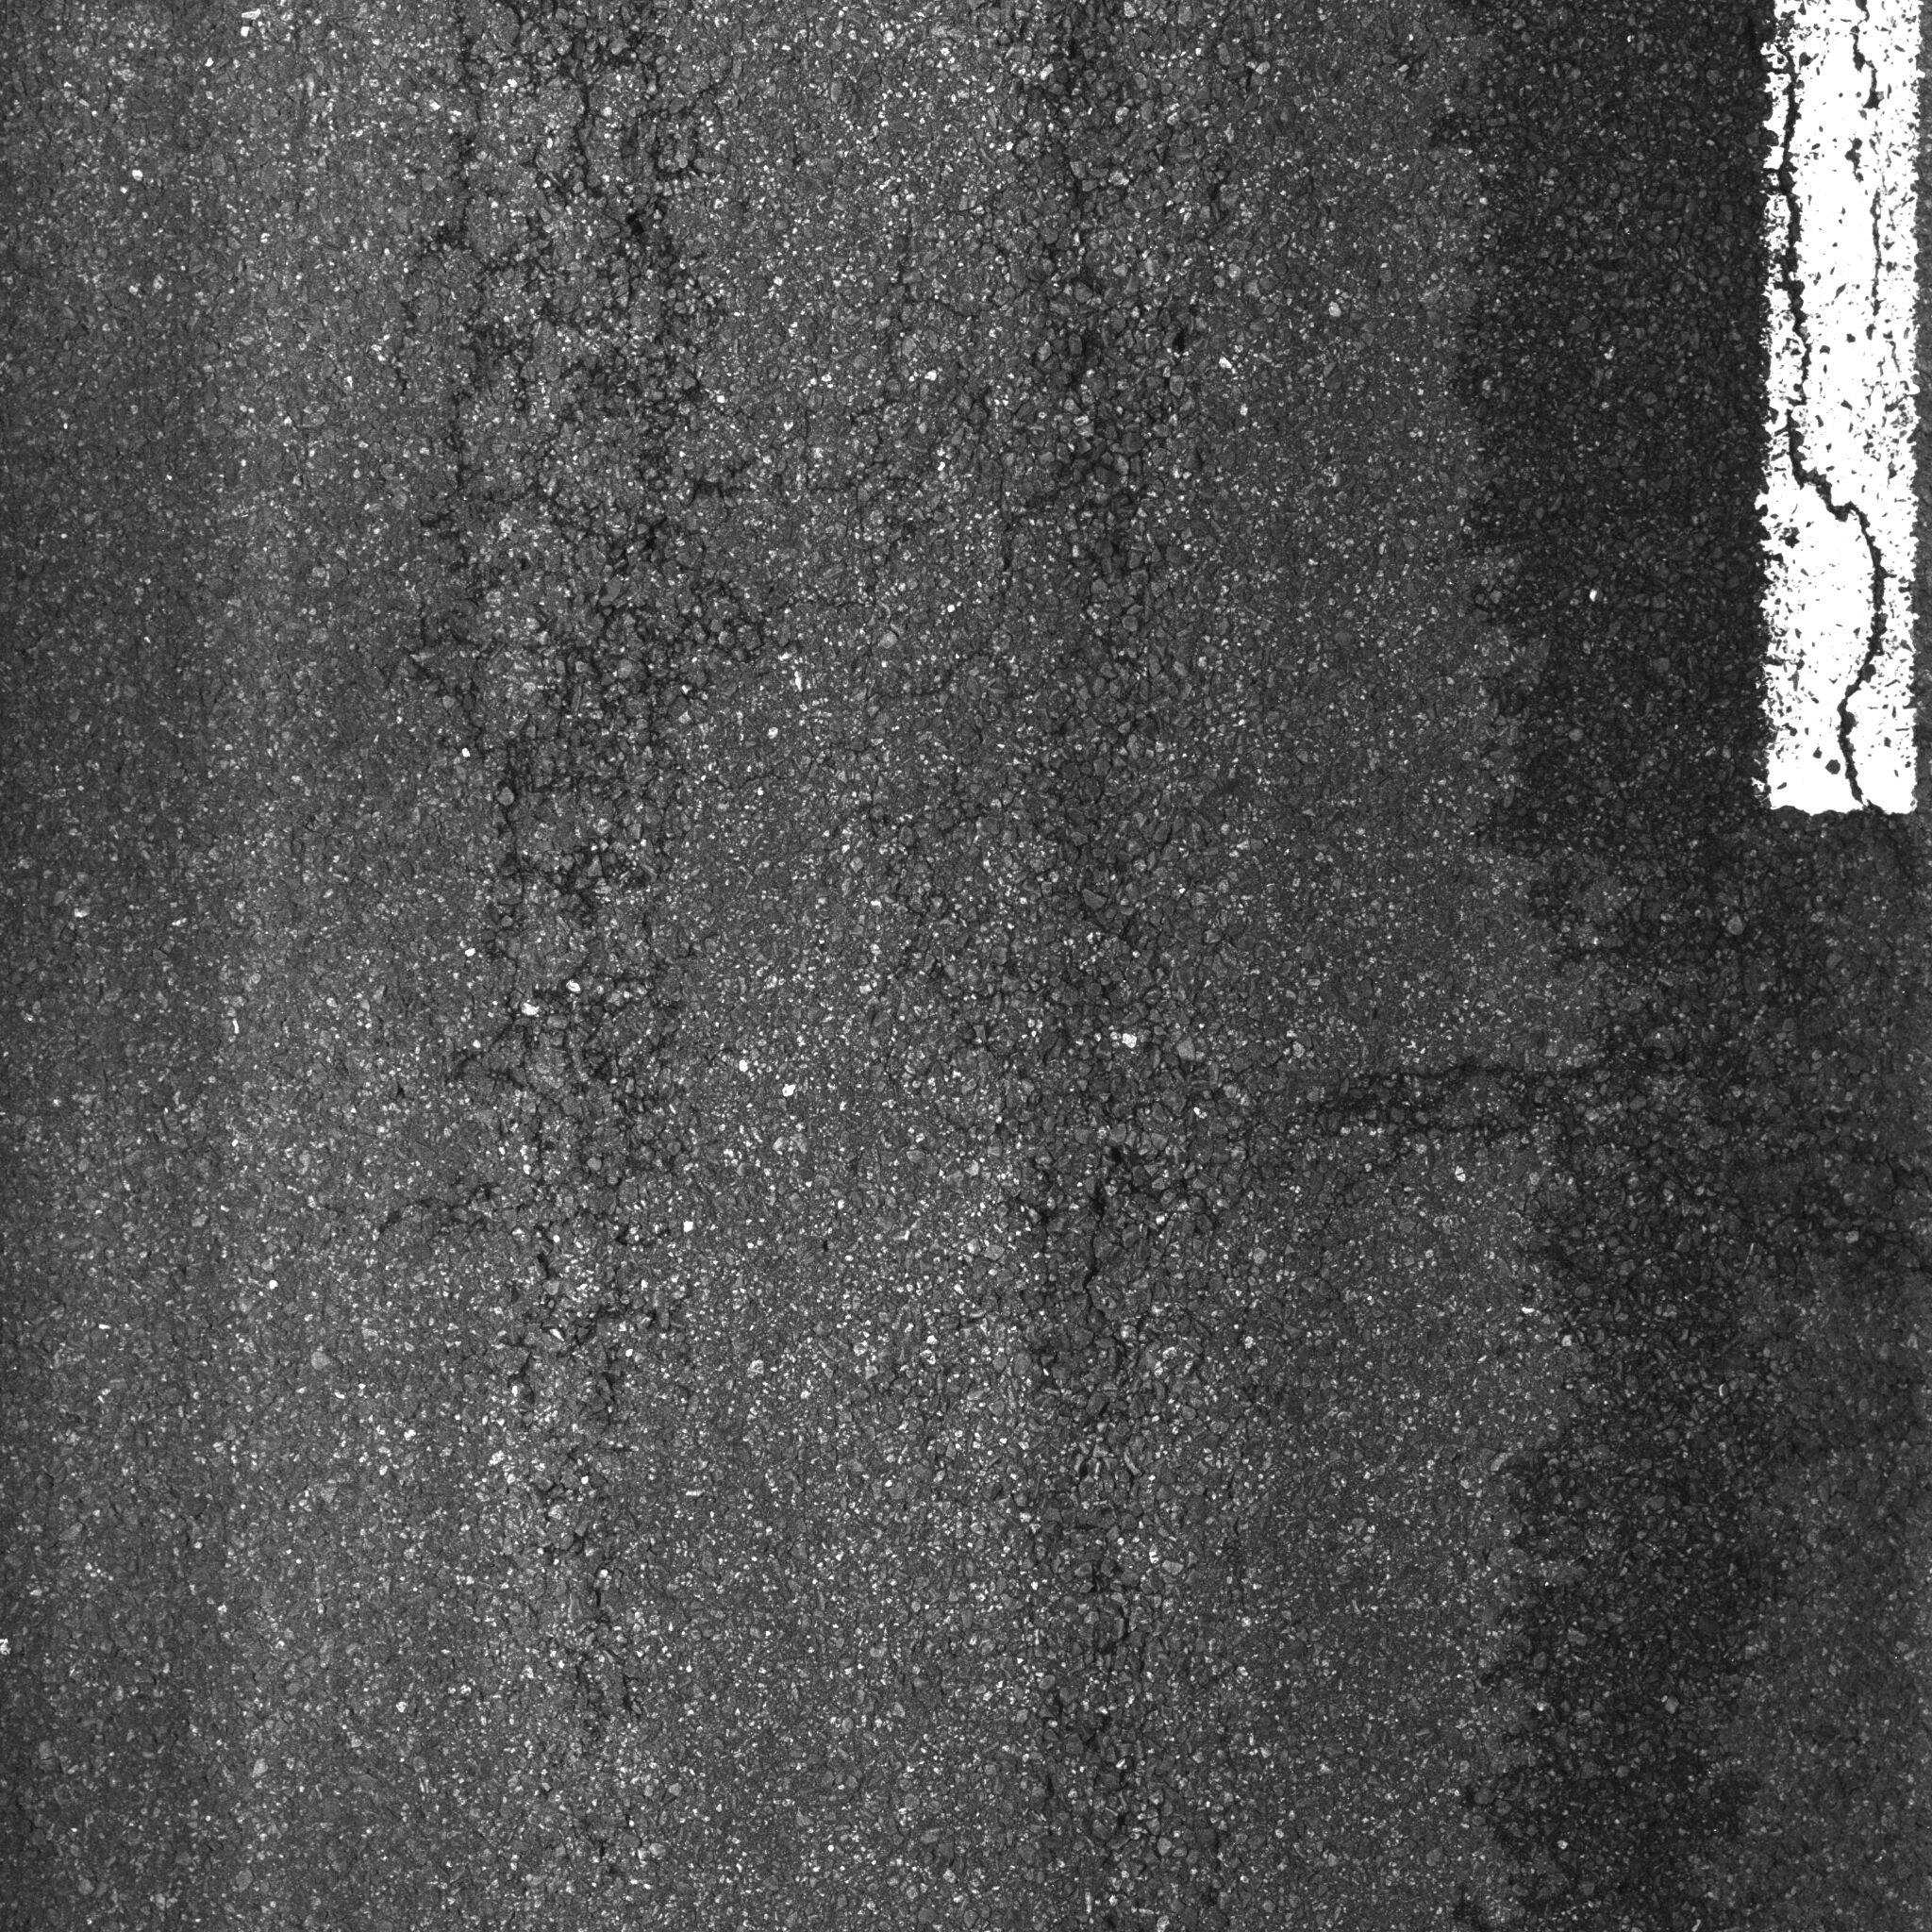alligator: (876, 2, 1882, 1925), (317, 2, 793, 1785)
